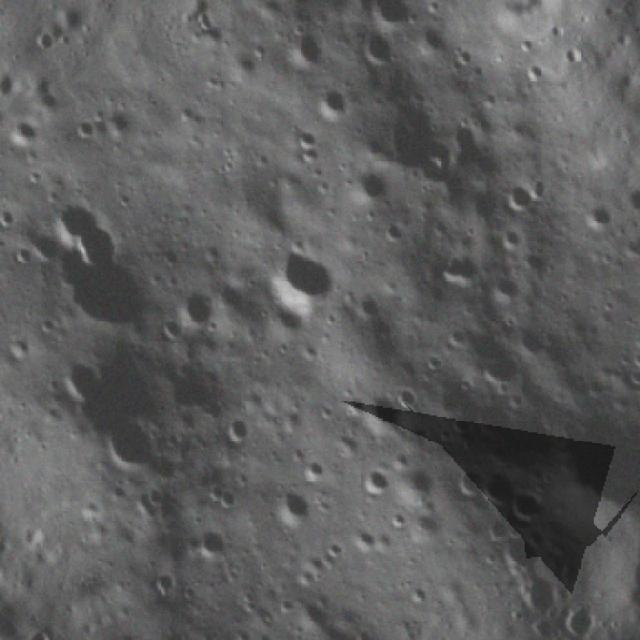crater: (30, 215, 173, 354), (255, 227, 357, 331), (92, 408, 172, 486), (34, 185, 114, 262), (417, 236, 486, 304), (482, 521, 547, 584), (259, 476, 321, 541), (342, 160, 404, 222), (495, 168, 556, 226), (53, 351, 112, 409), (493, 475, 552, 533), (182, 514, 242, 571), (473, 256, 530, 316), (280, 17, 337, 74), (353, 22, 405, 76), (304, 78, 356, 128), (572, 194, 622, 246), (350, 456, 399, 507), (442, 458, 496, 504), (1, 110, 51, 159), (359, 0, 424, 37), (94, 99, 140, 147), (474, 470, 520, 513), (143, 565, 186, 606), (218, 407, 259, 448), (64, 110, 104, 150), (0, 120, 14, 197)
